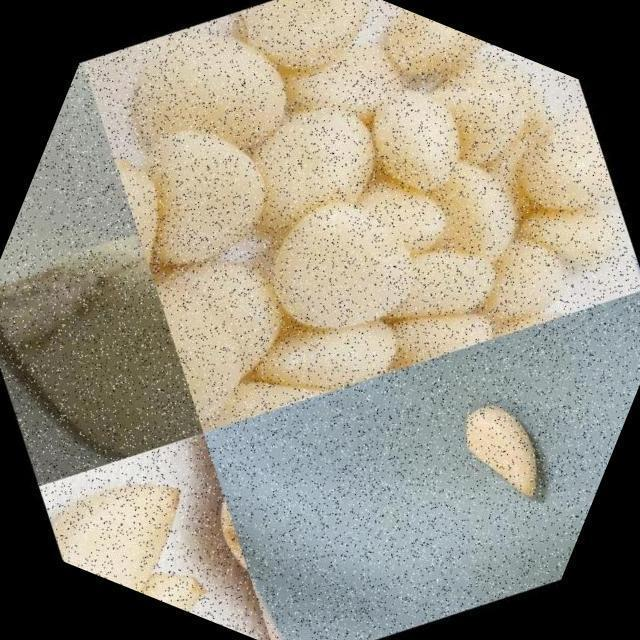garlic: (0, 0, 640, 564), (0, 182, 264, 532), (27, 422, 260, 620), (421, 372, 581, 535), (91, 524, 239, 624)
